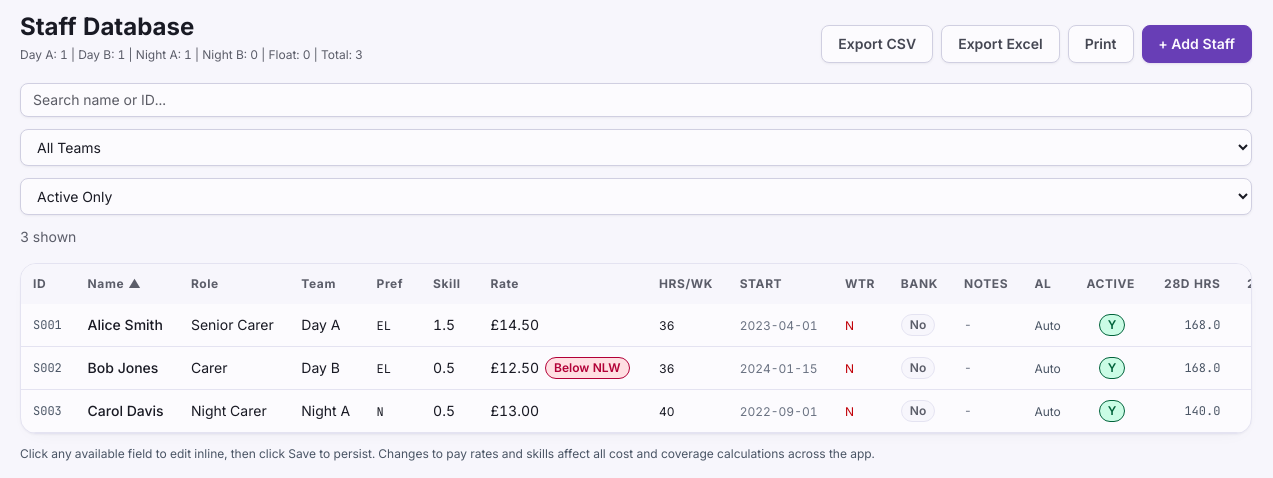
Test: StaffRegister › search is case-insensitive
Check: the button "Alice Smith" is shown, box [88,315,163,335]
Type "alice" into the field with placeholder "Search name or ID..." at [636, 100], box [20,83,1252,117]
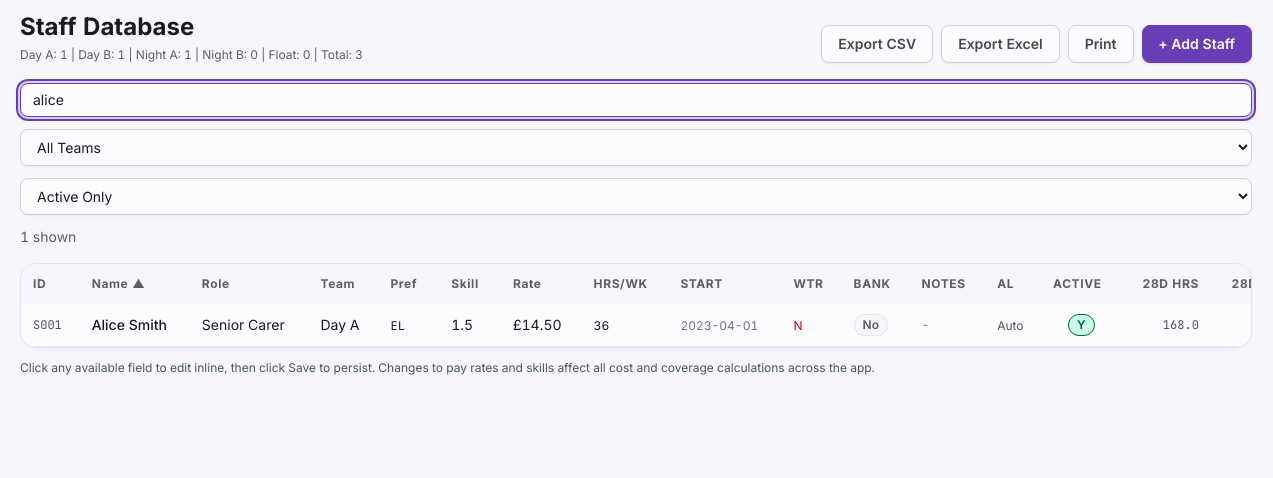
Check: the button "Alice Smith" is shown, box [92,315,167,335]
Check: the button "Bob Jones" is gone
